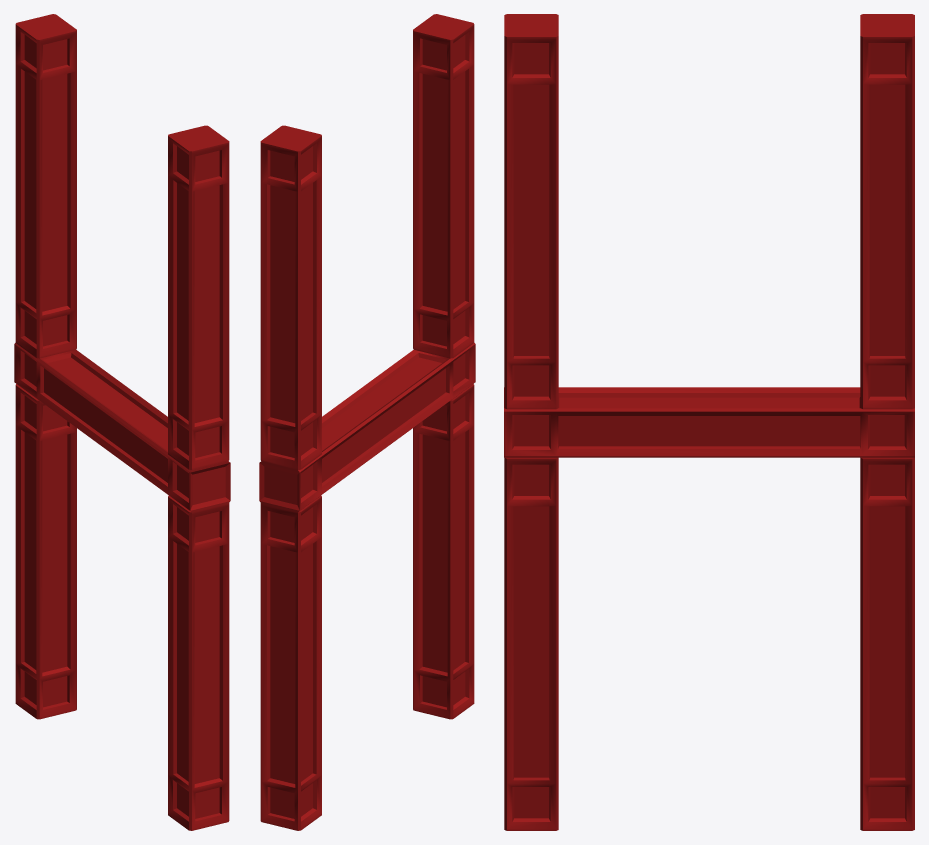
File: BackFrameUnit.fbx
The picture shows the model from 3 angles, left to right: view 1: azimuth 30°, elevation 25°; view 2: azimuth 150°, elevation 25°; view 3: azimuth 270°, elevation 25°; orthographic projection. The views are drawn at different scales.
Visible parts, largest first — view 1: BackFrameUnit; view 2: BackFrameUnit; view 3: BackFrameUnit.
Part boxes in pixels (x1,y1,x2,y2): BackFrameUnit: (14,14,230,830); BackFrameUnit: (259,14,475,830); BackFrameUnit: (504,14,914,830).
Size of the model in its own units: 100 by 754 by 1607.
